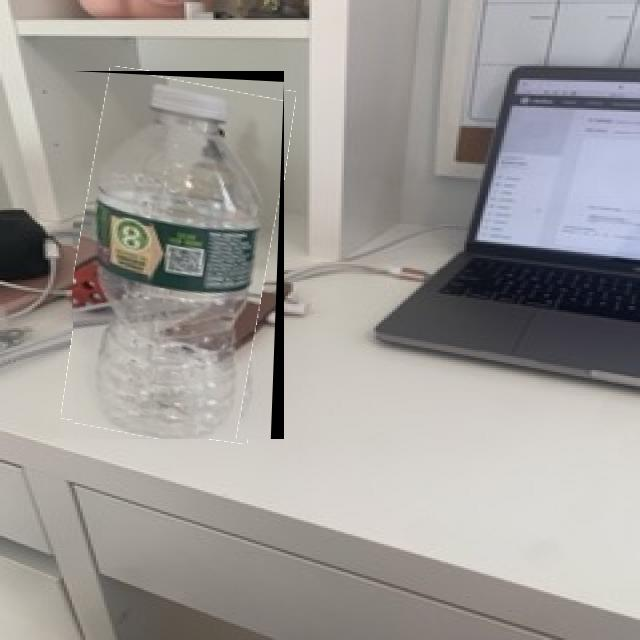water_bottle: (73, 71, 284, 439)
